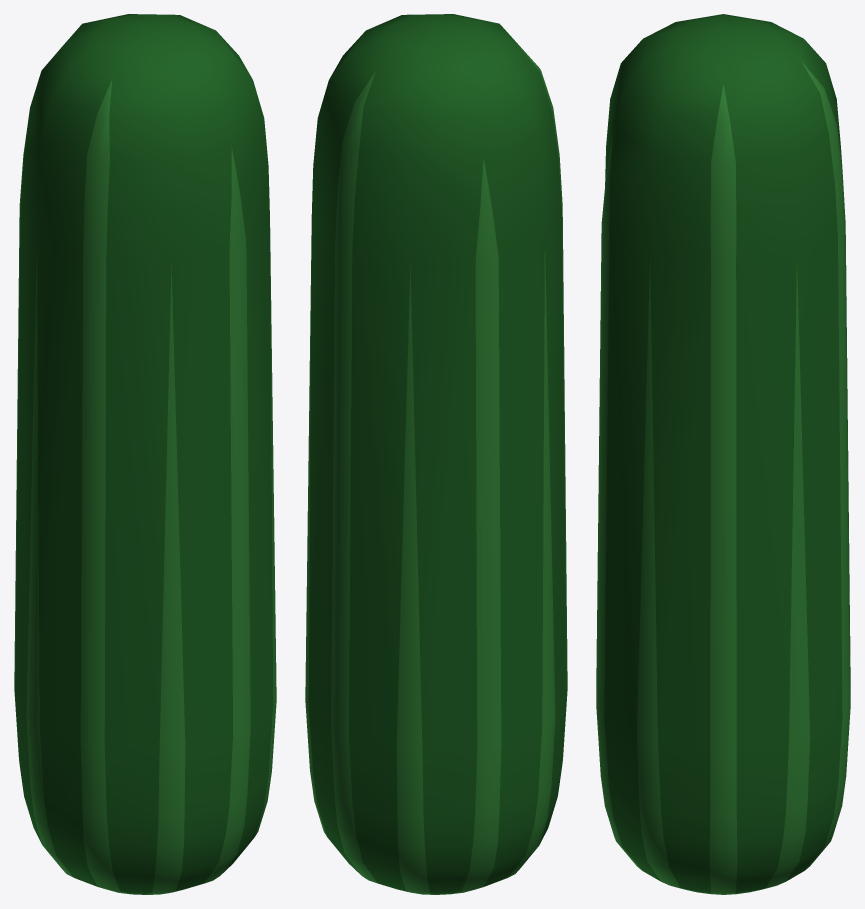
File: cucumber.fbx
3 views of the same model, side by side, from view 1: azimuth 30°, elevation 25°; view 2: azimuth 150°, elevation 25°; view 3: azimuth 270°, elevation 25° (orthographic).
Parts seen in each view (by area): view 1: Cucumber; view 2: Cucumber; view 3: Cucumber.
Part boxes in pixels (box(x1,y1,x2,y2)): Cucumber: box(14, 14, 276, 894); Cucumber: box(305, 14, 567, 894); Cucumber: box(596, 14, 850, 894).
Bounding box in the file's own units: 112 × 399 × 108.
